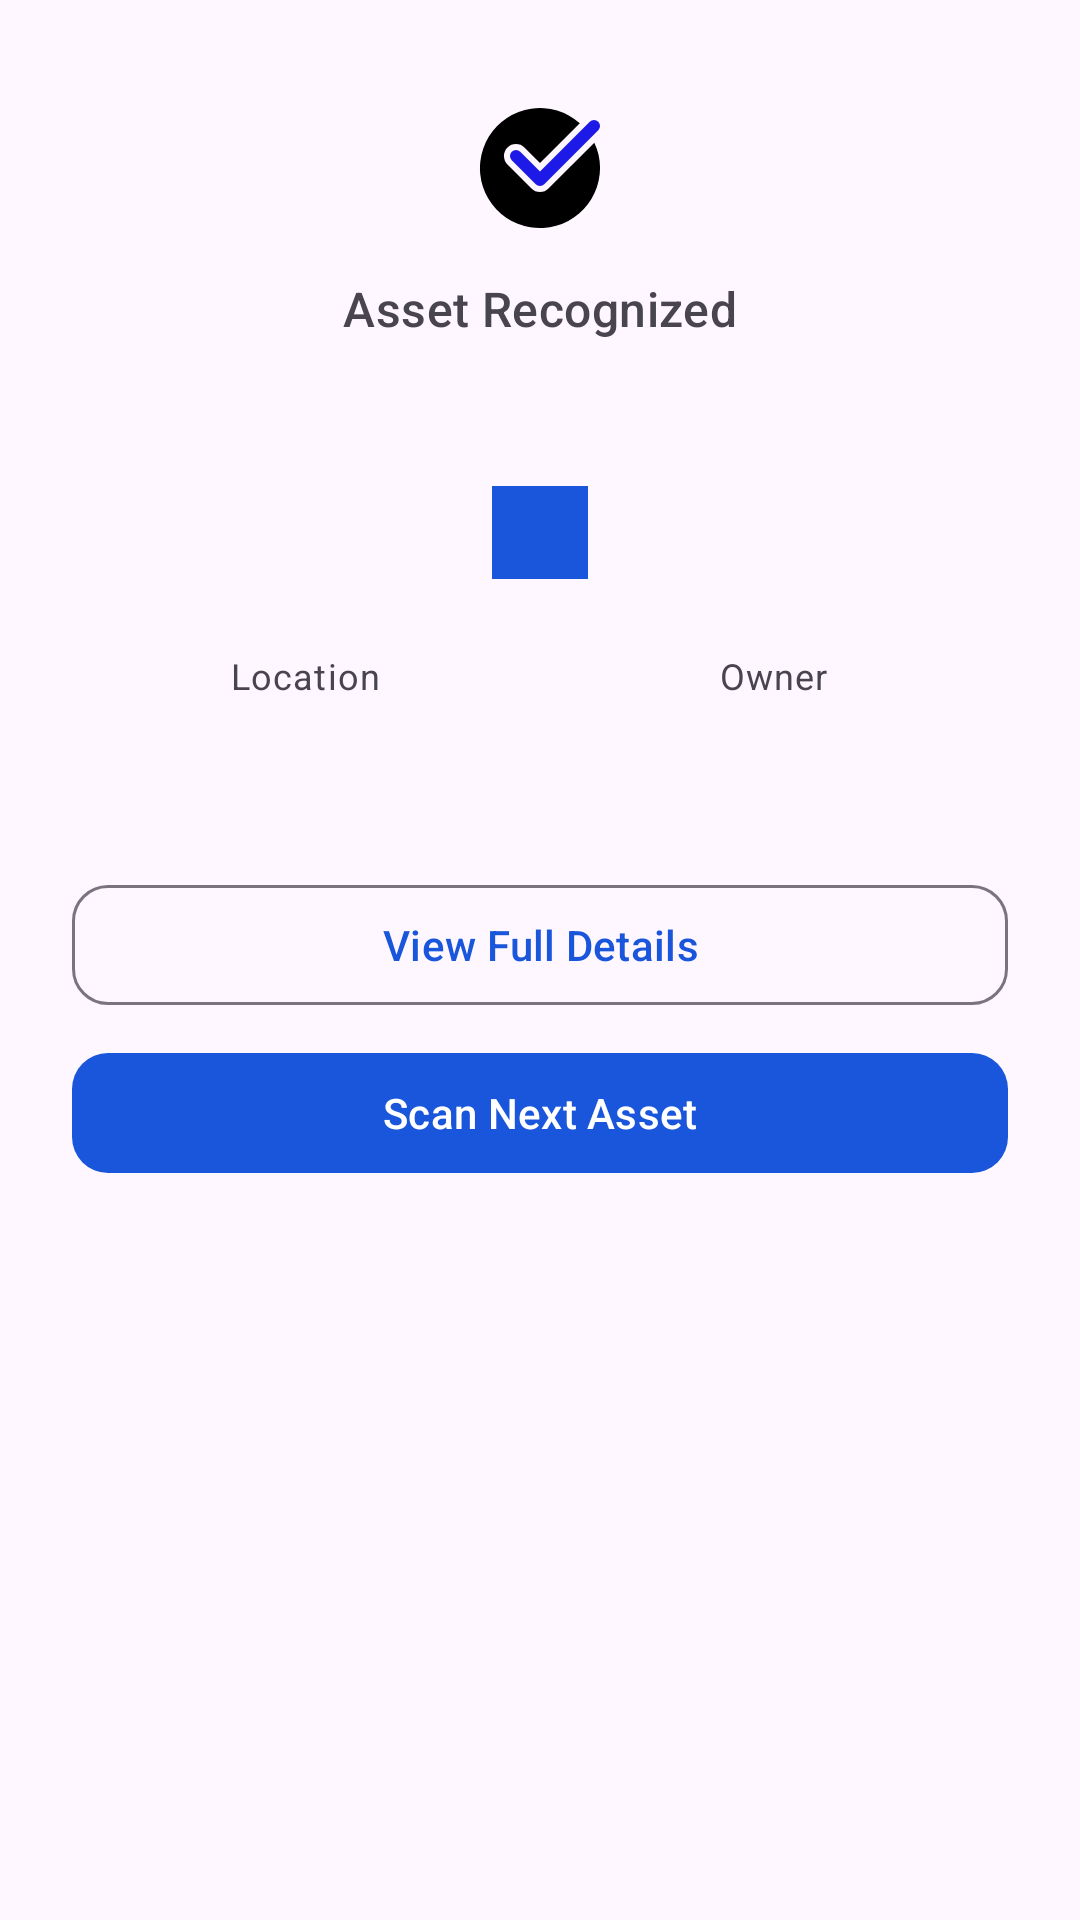

Screen size 1080px x 1920px. Icon name, then its box in pixels as (x1, y1, x2, y2):
Success: (480, 108, 600, 228)
